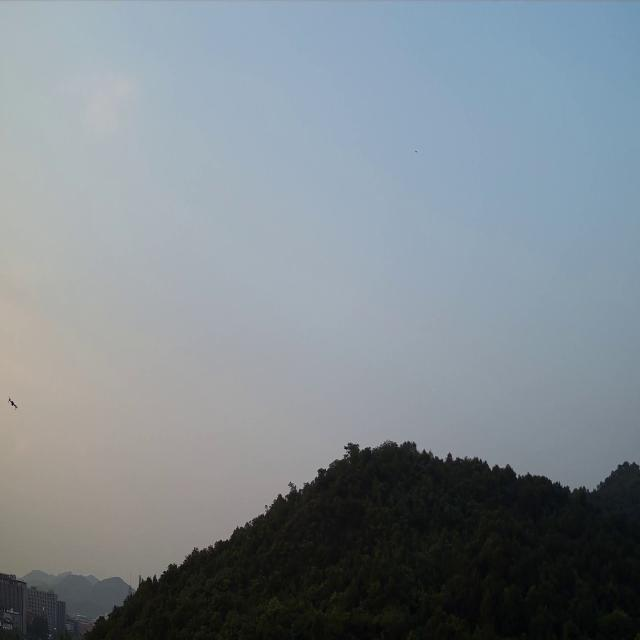UAV: (8, 394, 18, 410)
